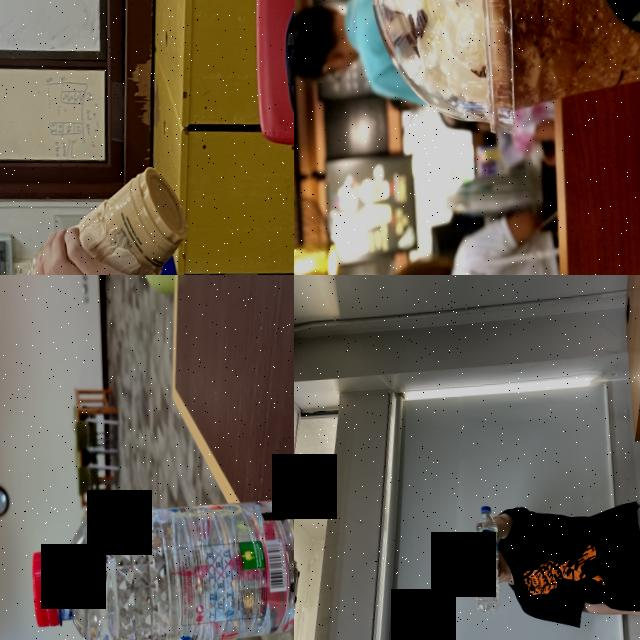bottle: (22, 486, 294, 640), (471, 504, 504, 614)
cup: (359, 0, 640, 144), (16, 165, 192, 275)
